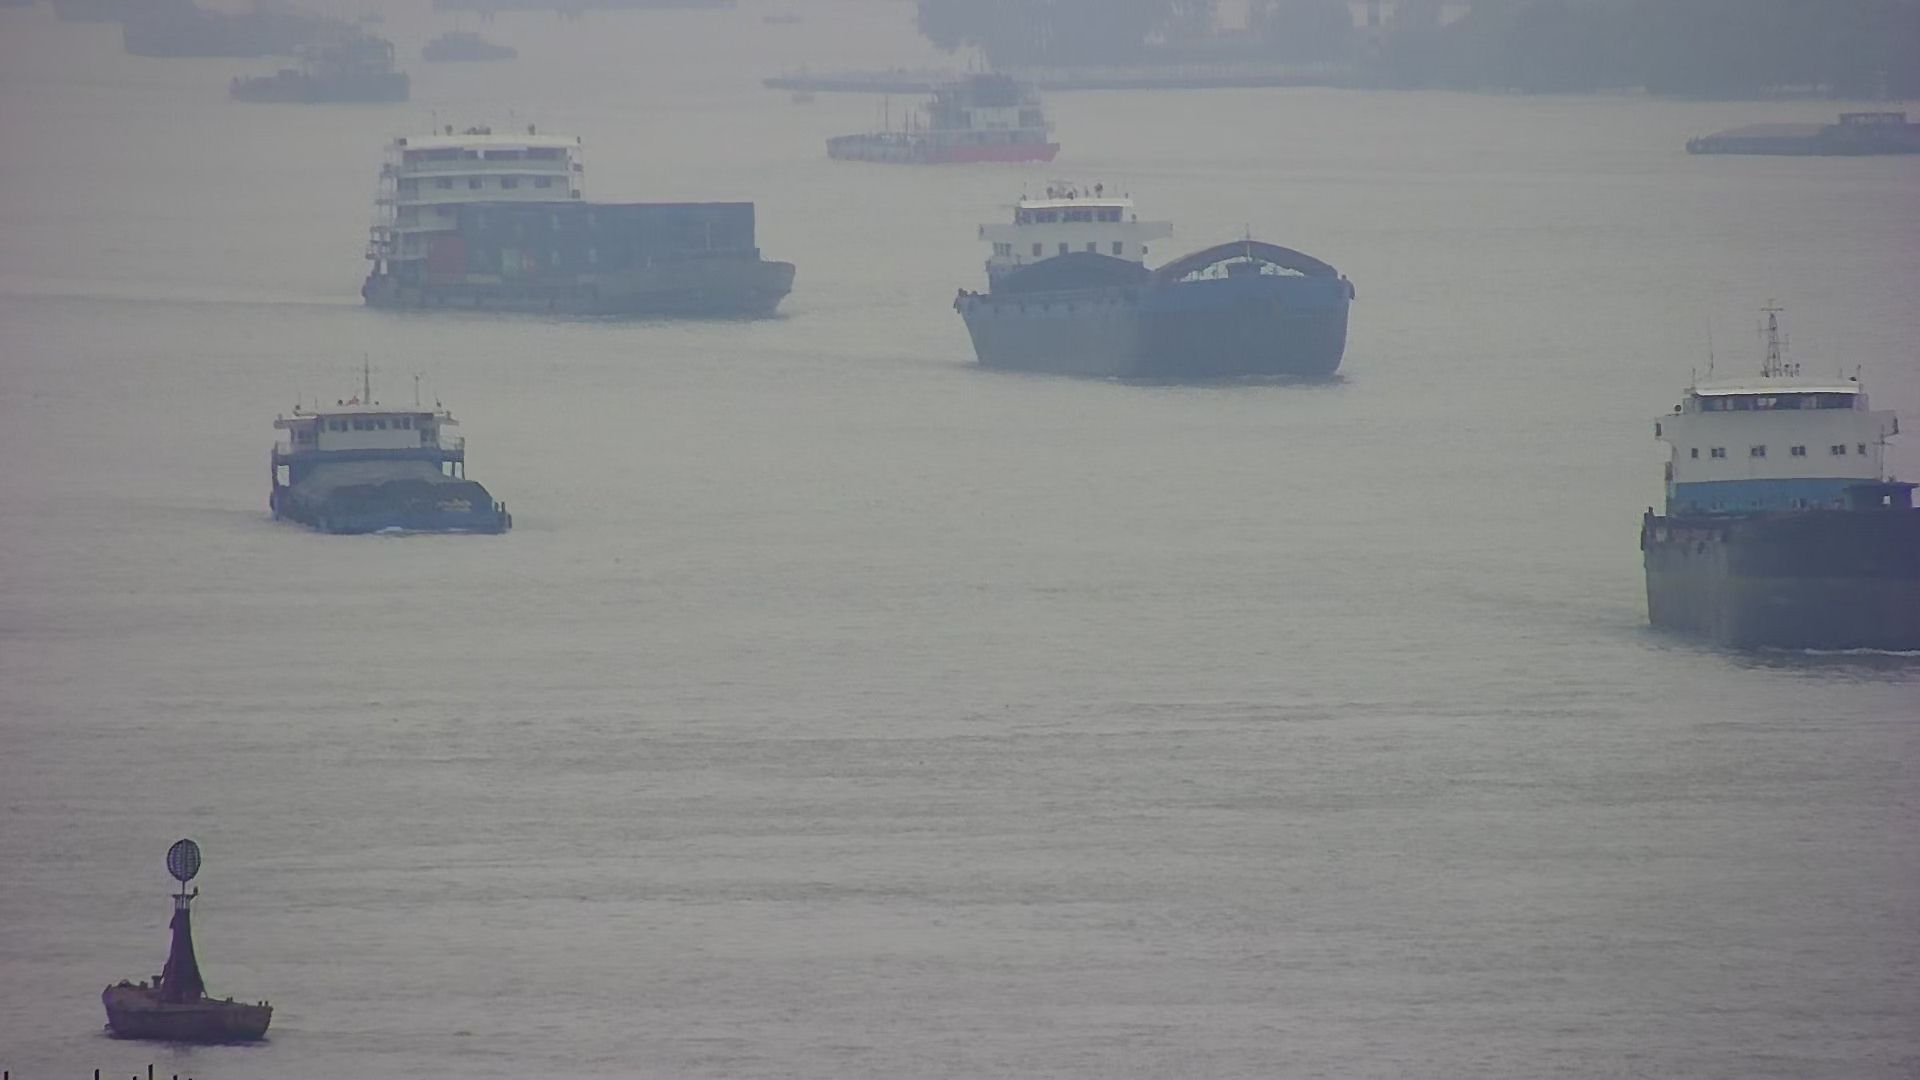boat: (99, 836, 280, 1047)
ship: (1639, 319, 1920, 654), (359, 124, 791, 314), (949, 185, 1340, 378), (258, 388, 521, 537), (824, 67, 1058, 171), (1687, 111, 1920, 161)
